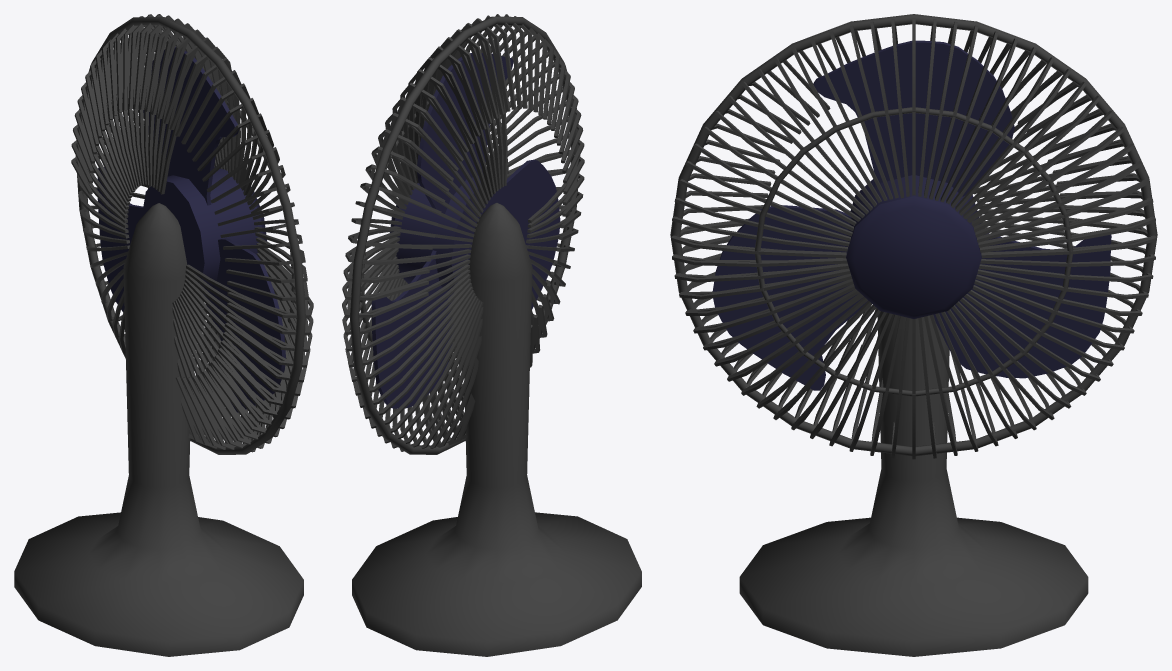
Rendered from fan.fbx.
The picture shows the model from 3 angles, left to right: view 1: azimuth 30°, elevation 25°; view 2: azimuth 150°, elevation 25°; view 3: azimuth 270°, elevation 25°; orthographic projection. The views are drawn at different scales.
Visible parts, largest first — view 1: Line047, Cylinder003; view 2: Line047, Cylinder003; view 3: Line047, Cylinder003.
Part boxes in pixels (bbox=[...]): Line047: bbox=[14, 14, 313, 656]; Cylinder003: bbox=[97, 46, 285, 412]; Line047: bbox=[342, 14, 641, 656]; Cylinder003: bbox=[371, 53, 560, 408]; Line047: bbox=[670, 14, 1157, 656]; Cylinder003: bbox=[712, 40, 1111, 390].
Size of the model in its own units: 652 by 1425 by 1057.
